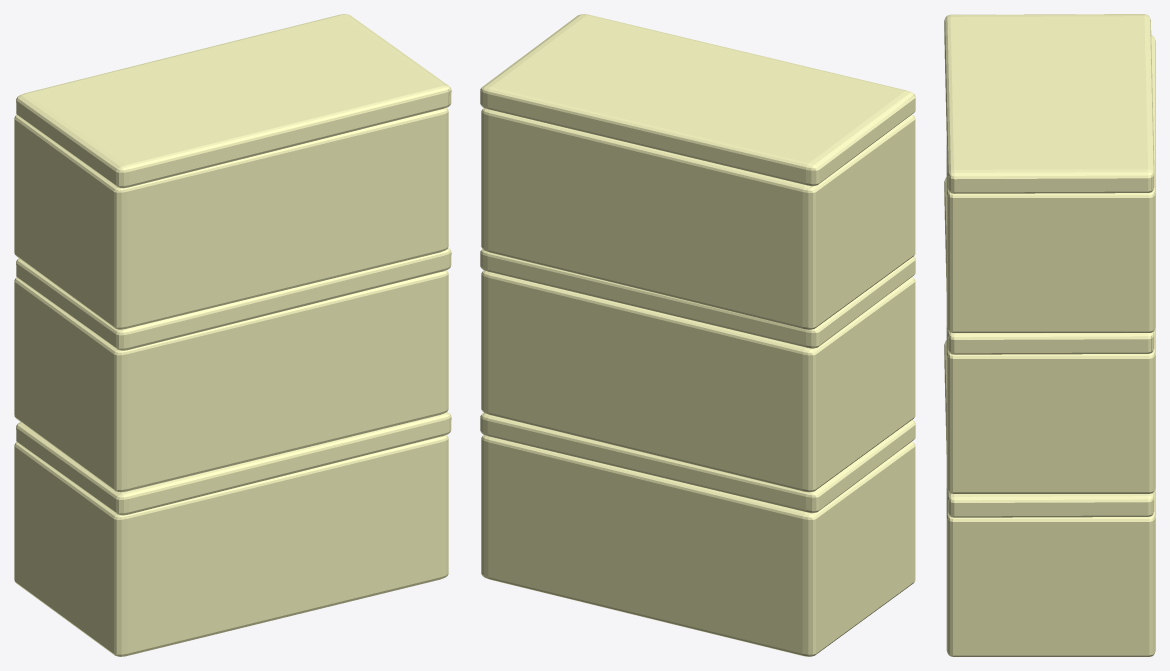
The model's file is 3Containers.fbx.
The picture shows the model from 3 angles, left to right: view 1: azimuth 30°, elevation 25°; view 2: azimuth 150°, elevation 25°; view 3: azimuth 270°, elevation 25°; orthographic projection.
Visible parts, largest first — view 1: 3Container; view 2: 3Container; view 3: 3Container.
Boxes of the visible parts, x1,y1,x2,y2 form: 3Container: (14, 14, 451, 656); 3Container: (480, 14, 915, 656); 3Container: (944, 14, 1155, 656).
Size of the model in its own units: 395 by 547 by 216.
Materials: 1 (1 with a texture image).
